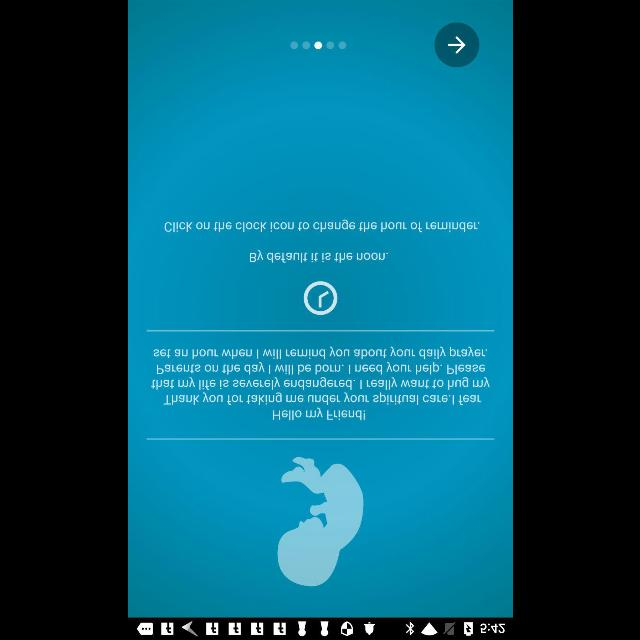button: (433, 22, 479, 68)
icon: (303, 281, 337, 315)
image: (276, 456, 364, 586)
pageindicator: (289, 40, 347, 50)
text: (150, 345, 490, 405), (163, 219, 479, 233), (249, 249, 387, 263), (272, 407, 364, 421)
uppertaskbar: (128, 617, 512, 639)
